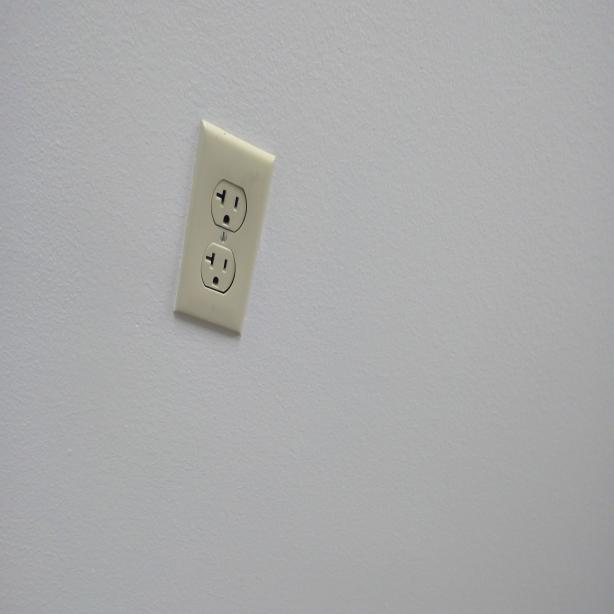typeb: (212, 175, 246, 229), (203, 242, 232, 295)
